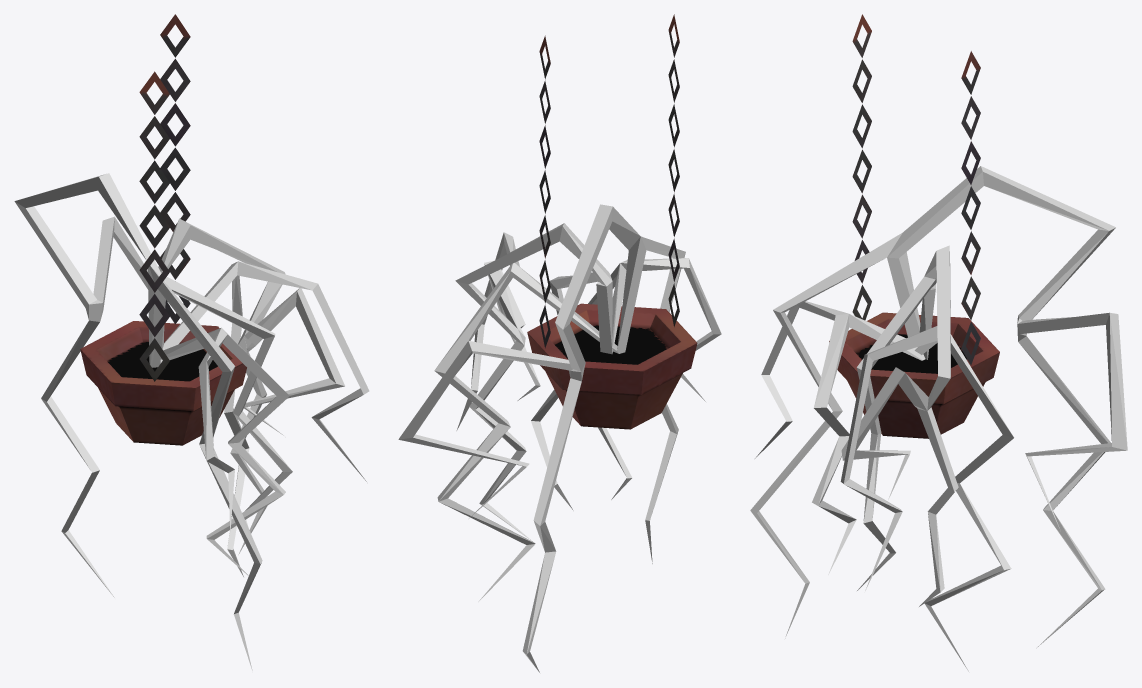
The model's file is 0swing.fbx_plant3.fbx.
3 views of the same model, side by side, from view 1: azimuth 30°, elevation 25°; view 2: azimuth 150°, elevation 25°; view 3: azimuth 270°, elevation 25° (orthographic).
Parts seen in each view (by area): view 1: Spideryplant1, Hangingplant1.003; view 2: Spideryplant1, Hangingplant1.003; view 3: Spideryplant1, Hangingplant1.003.
Part boxes in pixels (bbox=[...]): Spideryplant1: bbox=[14, 173, 369, 670]; Hangingplant1.003: bbox=[80, 14, 246, 445]; Spideryplant1: bbox=[398, 204, 721, 672]; Hangingplant1.003: bbox=[527, 14, 697, 429]; Spideryplant1: bbox=[750, 166, 1127, 671]; Hangingplant1.003: bbox=[829, 14, 999, 438].
Bounding box in the file's own units: 269 × 625 × 349.
